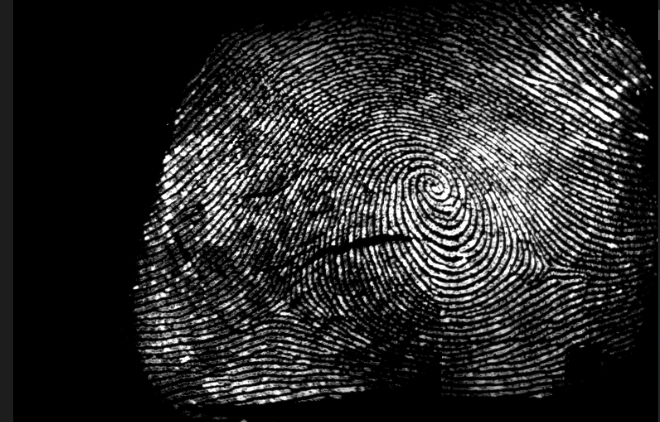nucelo: (408, 167, 457, 211)
verticilo: (268, 293, 301, 321), (533, 256, 567, 282)
